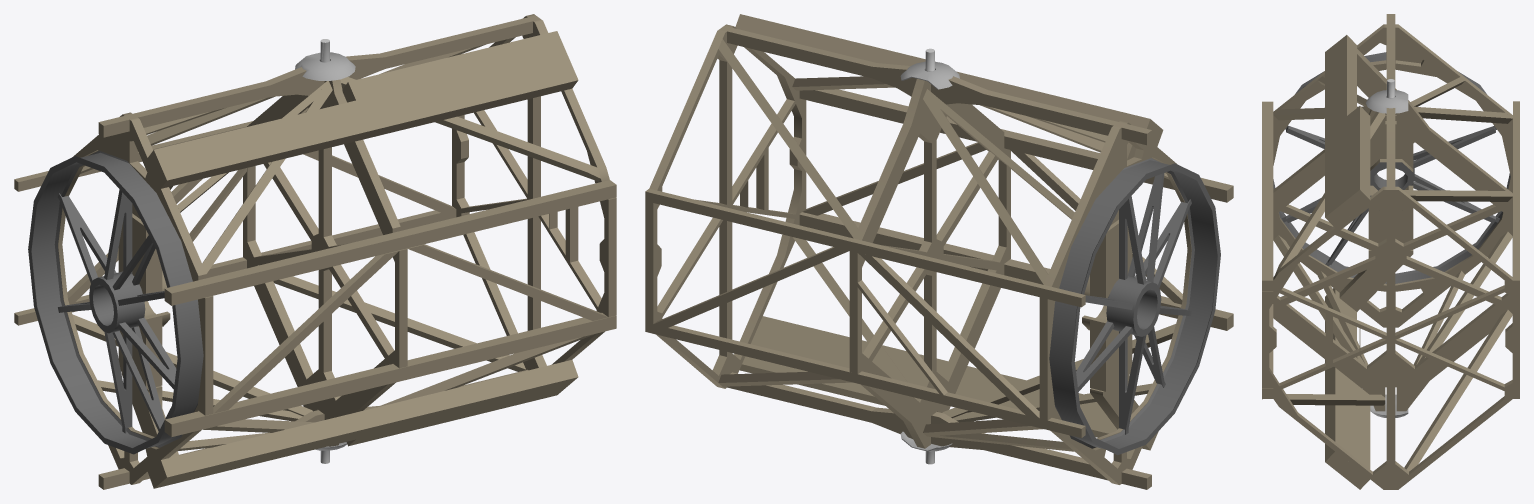
3 views of the same model, side by side, from view 1: azimuth 30°, elevation 25°; view 2: azimuth 150°, elevation 25°; view 3: azimuth 270°, elevation 25° (orthographic). The views are drawn at different scales.
Parts seen in each view (by area): view 1: s3; view 2: s3; view 3: s3.
Part boxes in pixels (<box>): s3: <box>14,14,616,489</box>; s3: <box>645,14,1233,489</box>; s3: <box>1262,14,1519,489</box>.
Bounding box in the file's own units: 5.55 × 5.01 × 3.37.
4 materials, 1 textured.
